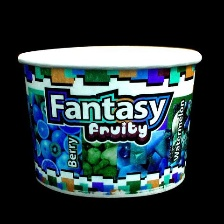paper_cup: (10, 40, 208, 201)
